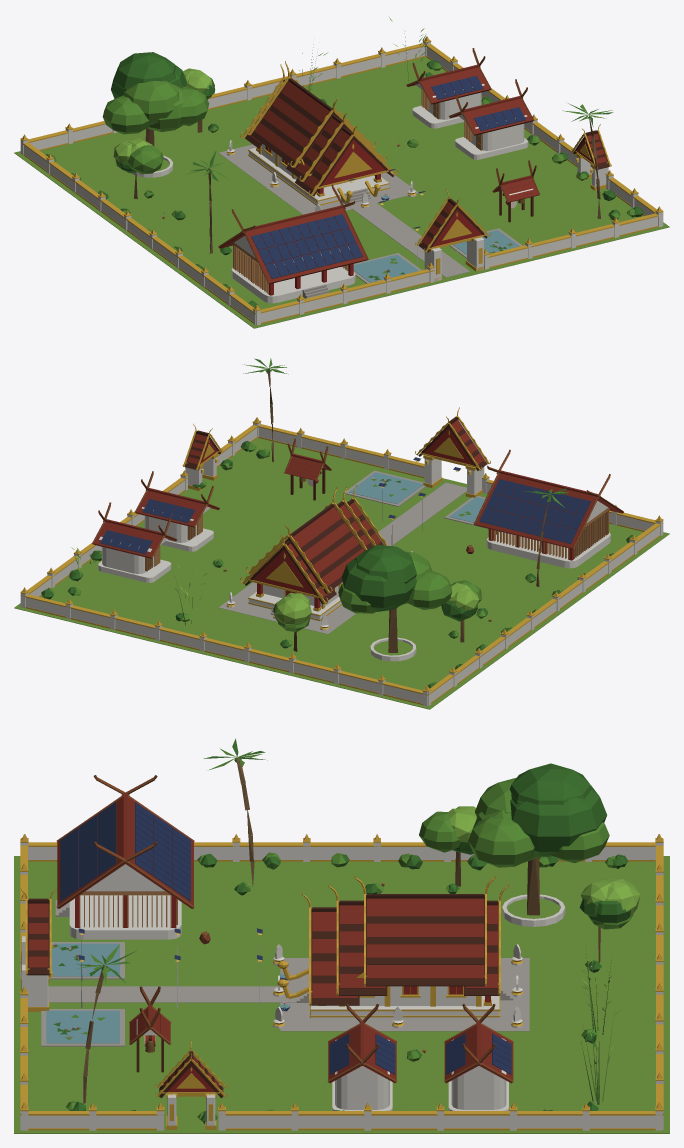
Rendered from temple_1.glb.
The picture shows the model from 3 angles, top to bottom: view 1: azimuth 30°, elevation 25°; view 2: azimuth 150°, elevation 25°; view 3: azimuth 270°, elevation 25°; orthographic projection. The views are drawn at different scales.
Parts seen in each view (by area): view 1: body; view 2: body; view 3: body.
Boxes of the visible parts, left/top/right/bottom form: body: left=14, top=17, right=669, bottom=328; body: left=14, top=358, right=669, bottom=709; body: left=14, top=738, right=669, bottom=1133.
Bounding box in the file's own units: 47.9 × 12.02 × 47.9.
